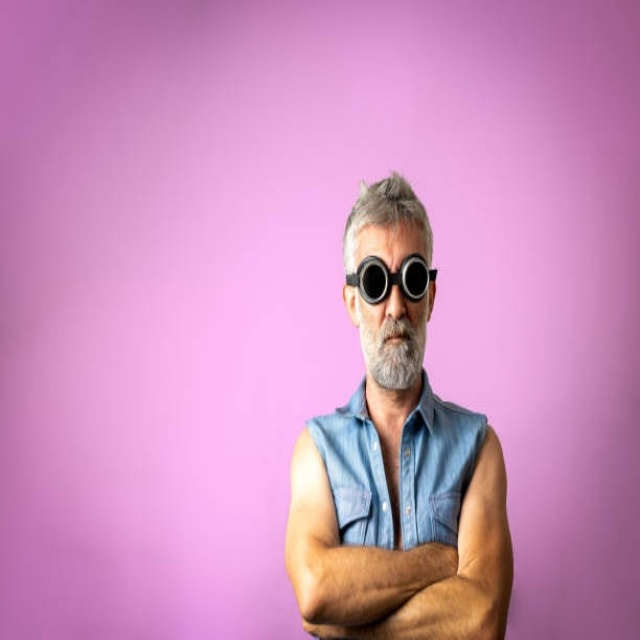Gafas: (345, 255, 436, 305)
Sin_mascara: (375, 320, 414, 364)
